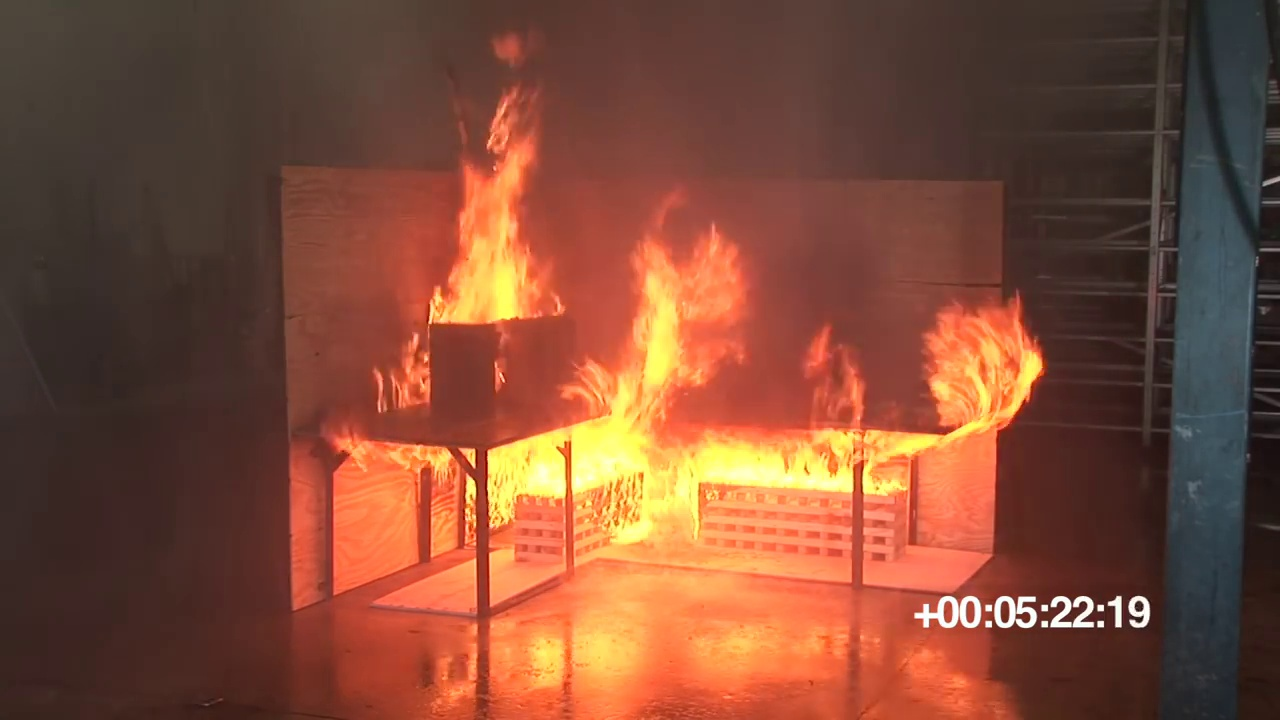fire: (559, 223, 751, 424), (430, 88, 558, 322), (489, 435, 895, 495), (927, 298, 1045, 431), (800, 329, 866, 434), (372, 334, 428, 406)
